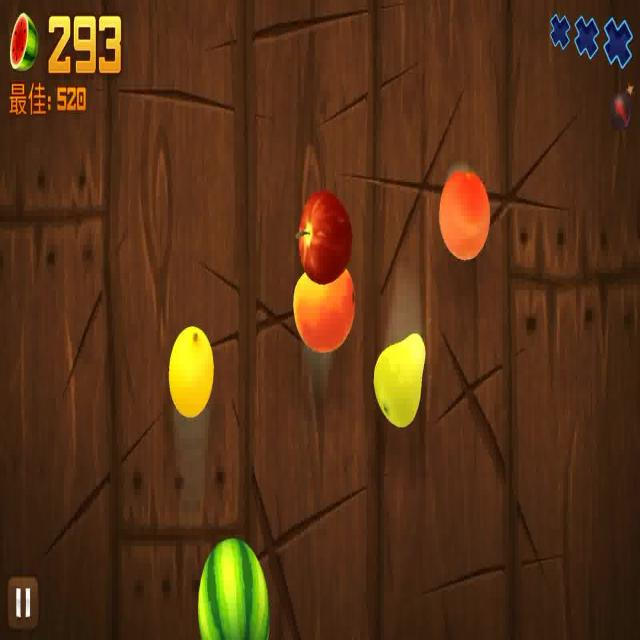fruit: (198, 528, 270, 640), (374, 322, 426, 430), (285, 282, 365, 352), (439, 163, 490, 271), (295, 197, 357, 278), (168, 312, 215, 413)
